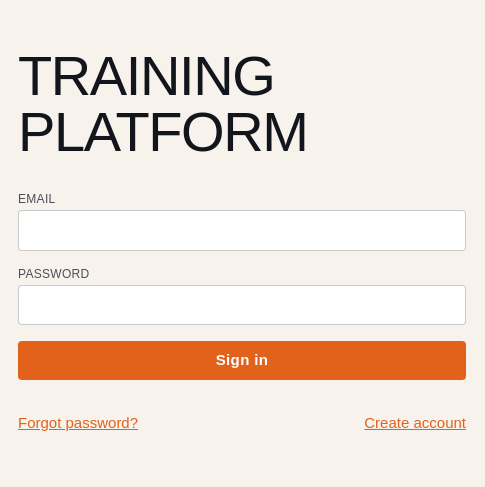
Test: LoginPage › should show a generic error banner for invalid credentials, never the verification banner
Step 1. Type "parent@example.com" into the field labelled "Email" → (242, 230), box [18,210,466,250]
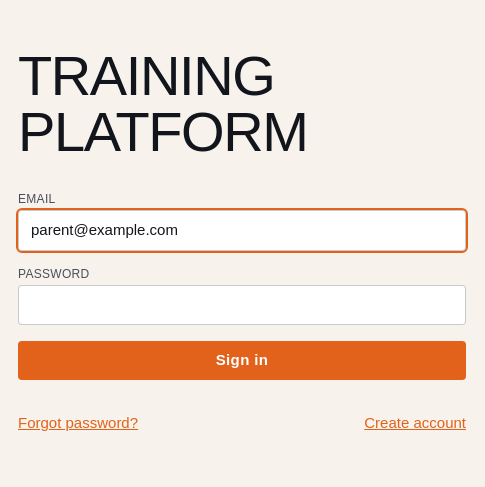
Step 2. Type "wrong" into the password field labelled "Password" → (242, 305), box [18,285,466,325]
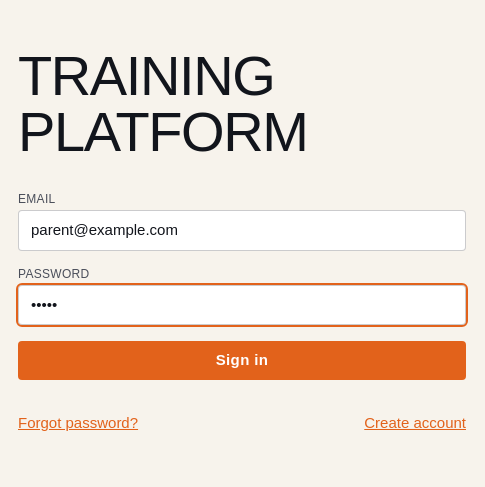
Step 3. Click the button "Sign in" → click(242, 361), box [18,341,466,380]
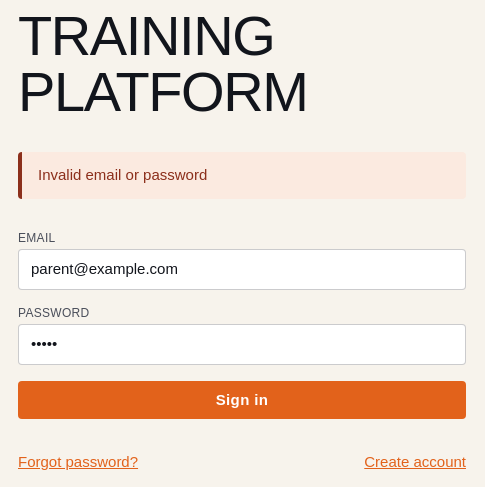
Expected: the message reads "Invalid email or password", [38,166,207,183]
